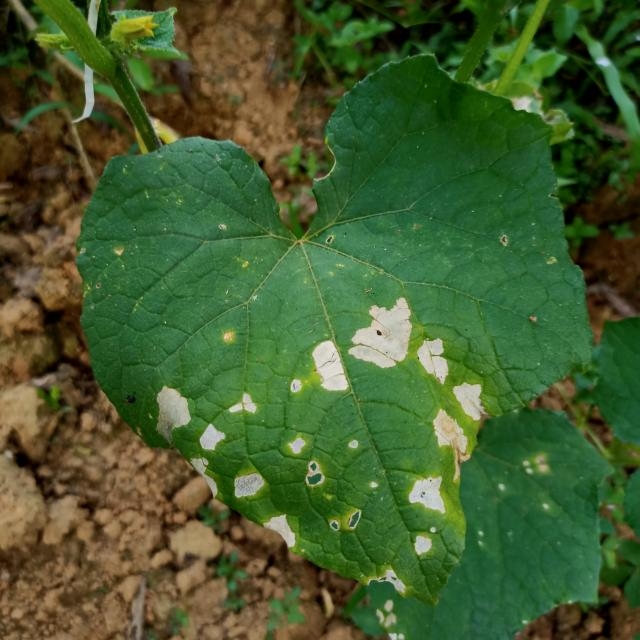disease_cucumber: (308, 292, 414, 393), (148, 384, 260, 456), (428, 378, 486, 456), (404, 473, 445, 563), (280, 437, 332, 488), (417, 336, 453, 384), (264, 511, 303, 549), (231, 468, 272, 502)
